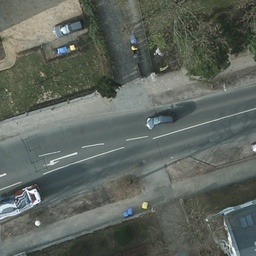car: (55, 18, 86, 38), (145, 111, 176, 131)
